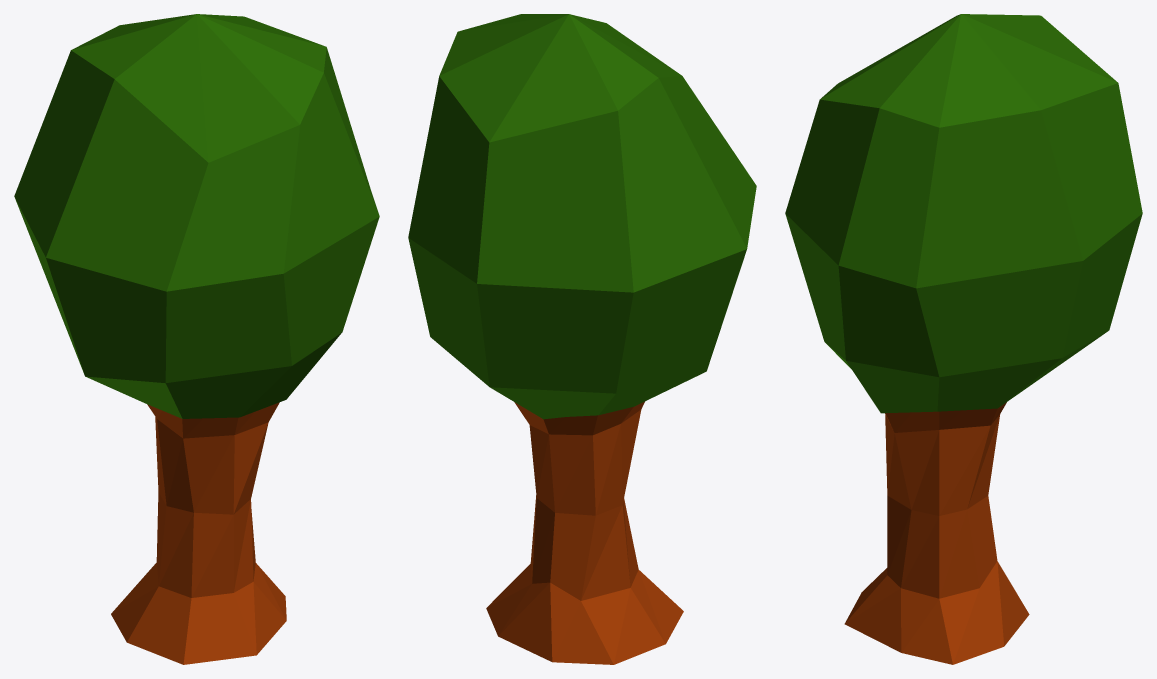
The model's file is tree.FBX.
The picture shows the model from 3 angles, left to right: view 1: azimuth 30°, elevation 25°; view 2: azimuth 150°, elevation 25°; view 3: azimuth 270°, elevation 25°; orthographic projection. The views are drawn at different scales.
Parts seen in each view (by area): view 1: Sphere001, Cylinder001; view 2: Sphere001, Cylinder001; view 3: Sphere001, Cylinder001.
Boxes of the visible parts, x1,y1,x2,y2 form: Sphere001: (14,14,379,418); Cylinder001: (111,402,286,664); Sphere001: (408,14,756,419); Cylinder001: (486,401,683,664); Sphere001: (785,14,1142,413); Cylinder001: (844,402,1029,664).
Bounding box in the file's own units: 159 × 154 × 290.
